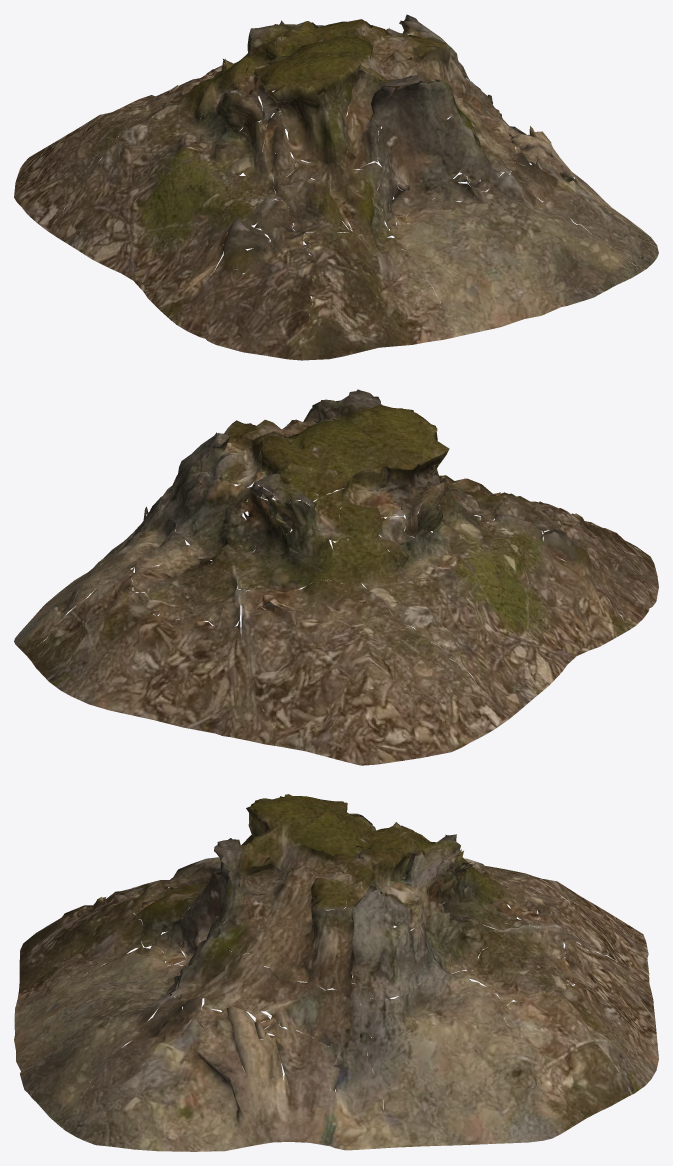
The model's file is stump.glb.
3 renders of one model, top to bottom at view 1: azimuth 30°, elevation 25°; view 2: azimuth 150°, elevation 25°; view 3: azimuth 270°, elevation 25°, orthographic. The views are drawn at different scales.
Visible parts, largest first — view 1: tree_stump_01; view 2: tree_stump_01; view 3: tree_stump_01.
Part boxes in pixels (box(x1,y1,x2,y2)): tree_stump_01: box(14, 14, 658, 360); tree_stump_01: box(14, 389, 658, 765); tree_stump_01: box(14, 794, 658, 1151).
Size of the model in its own units: 1.42 by 0.5721 by 1.59.
Materials: 1 (1 with a texture image).
